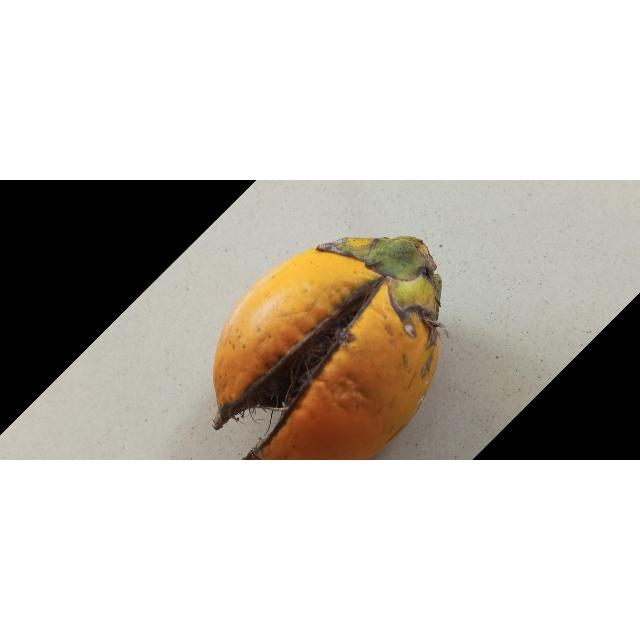damaged: (212, 237, 441, 461)
